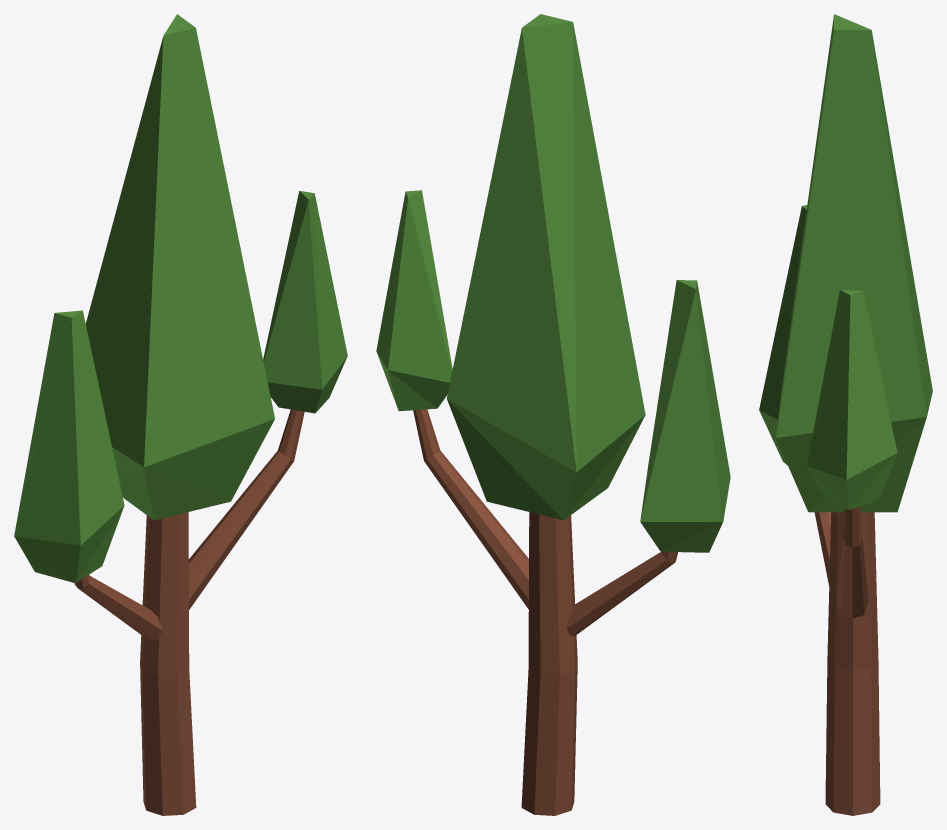
File: Tree_50_summer_mat.fbx
3 renders of one model, left to right at view 1: azimuth 30°, elevation 25°; view 2: azimuth 150°, elevation 25°; view 3: azimuth 270°, elevation 25°, orthographic.
Visible parts, largest first — view 1: Tree_50_summer_mat; view 2: Tree_50_summer_mat; view 3: Tree_50_summer_mat.
Boxes of the visible parts, x1,y1,x2,y2 form: Tree_50_summer_mat: (14,14,347,815); Tree_50_summer_mat: (376,14,730,815); Tree_50_summer_mat: (759,14,932,815).
Bounding box in the file's own units: 118 × 259 × 52.22.
